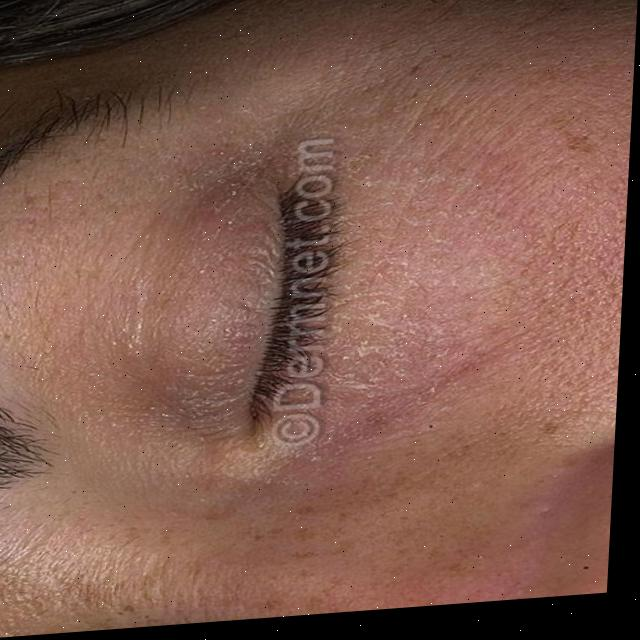Eczema: (109, 106, 498, 496)
